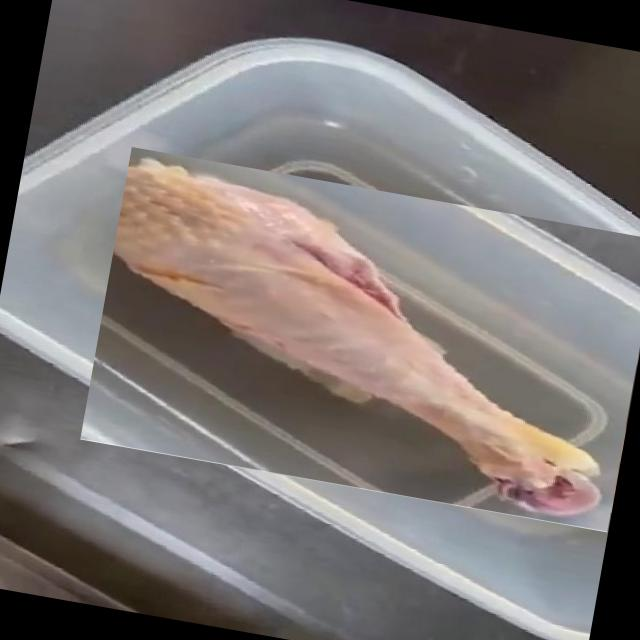chicken: (80, 146, 640, 532)
